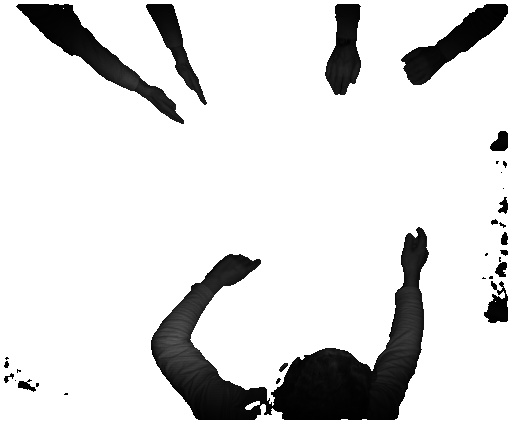fist: (400, 48, 444, 87)
hand: (320, 46, 367, 95), (212, 248, 263, 288), (400, 224, 431, 276)
spine: (135, 81, 187, 127), (176, 49, 207, 107)
